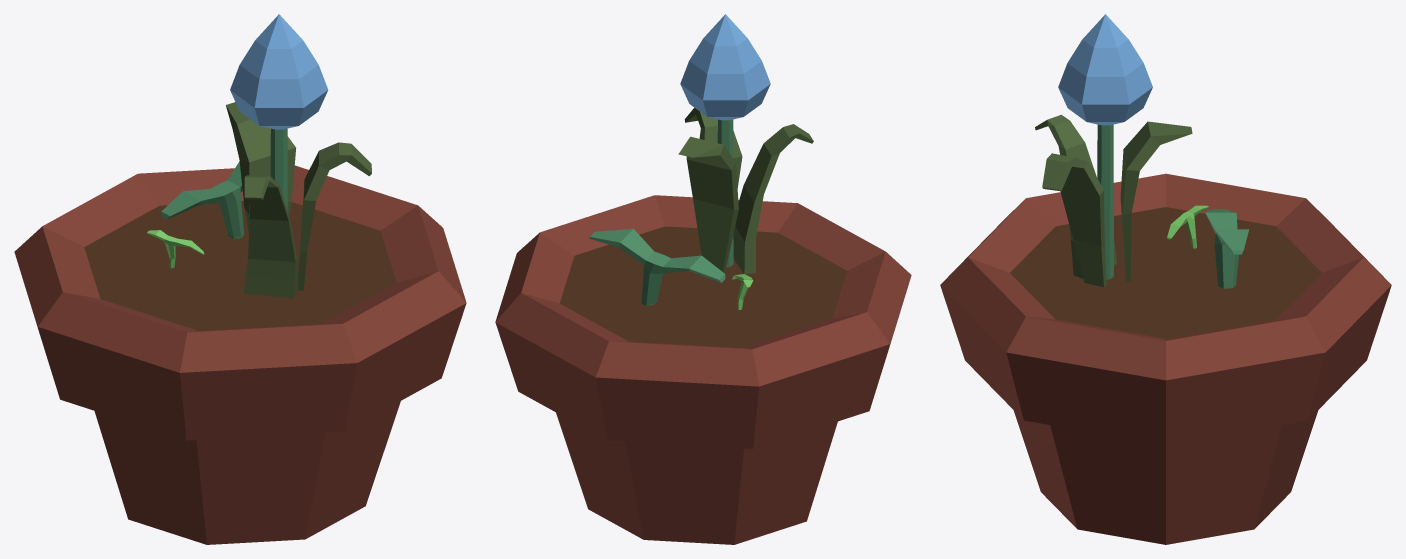
File: blue_flower.glb
3 renders of one model, left to right at view 1: azimuth 30°, elevation 25°; view 2: azimuth 150°, elevation 25°; view 3: azimuth 270°, elevation 25°, orthographic. The views are drawn at different scales.
Visible parts, largest first — view 1: Blue_Flower; view 2: Blue_Flower; view 3: Blue_Flower.
Boxes of the visible parts, box(x1,y1,x2,y2) form: Blue_Flower: box(14, 14, 466, 544); Blue_Flower: box(495, 14, 911, 544); Blue_Flower: box(940, 14, 1391, 544).
Bounding box in the file's own units: 0.3517 × 0.4137 × 0.3517.
1 material, 1 textured.
